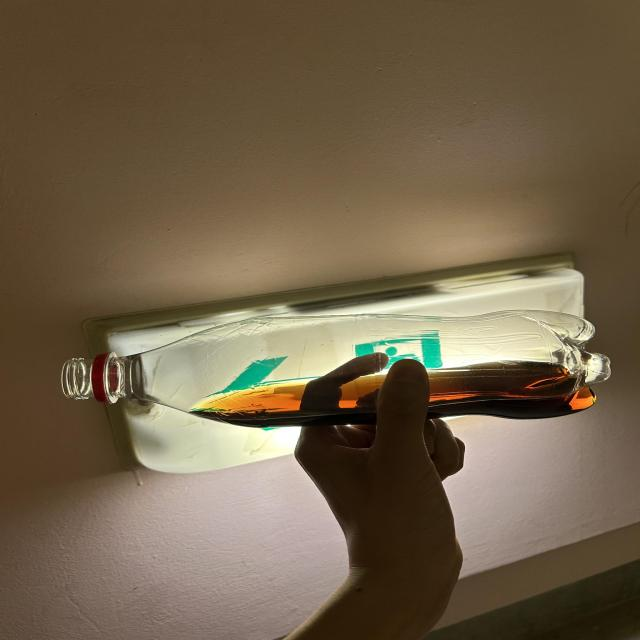low: (61, 310, 610, 428)
